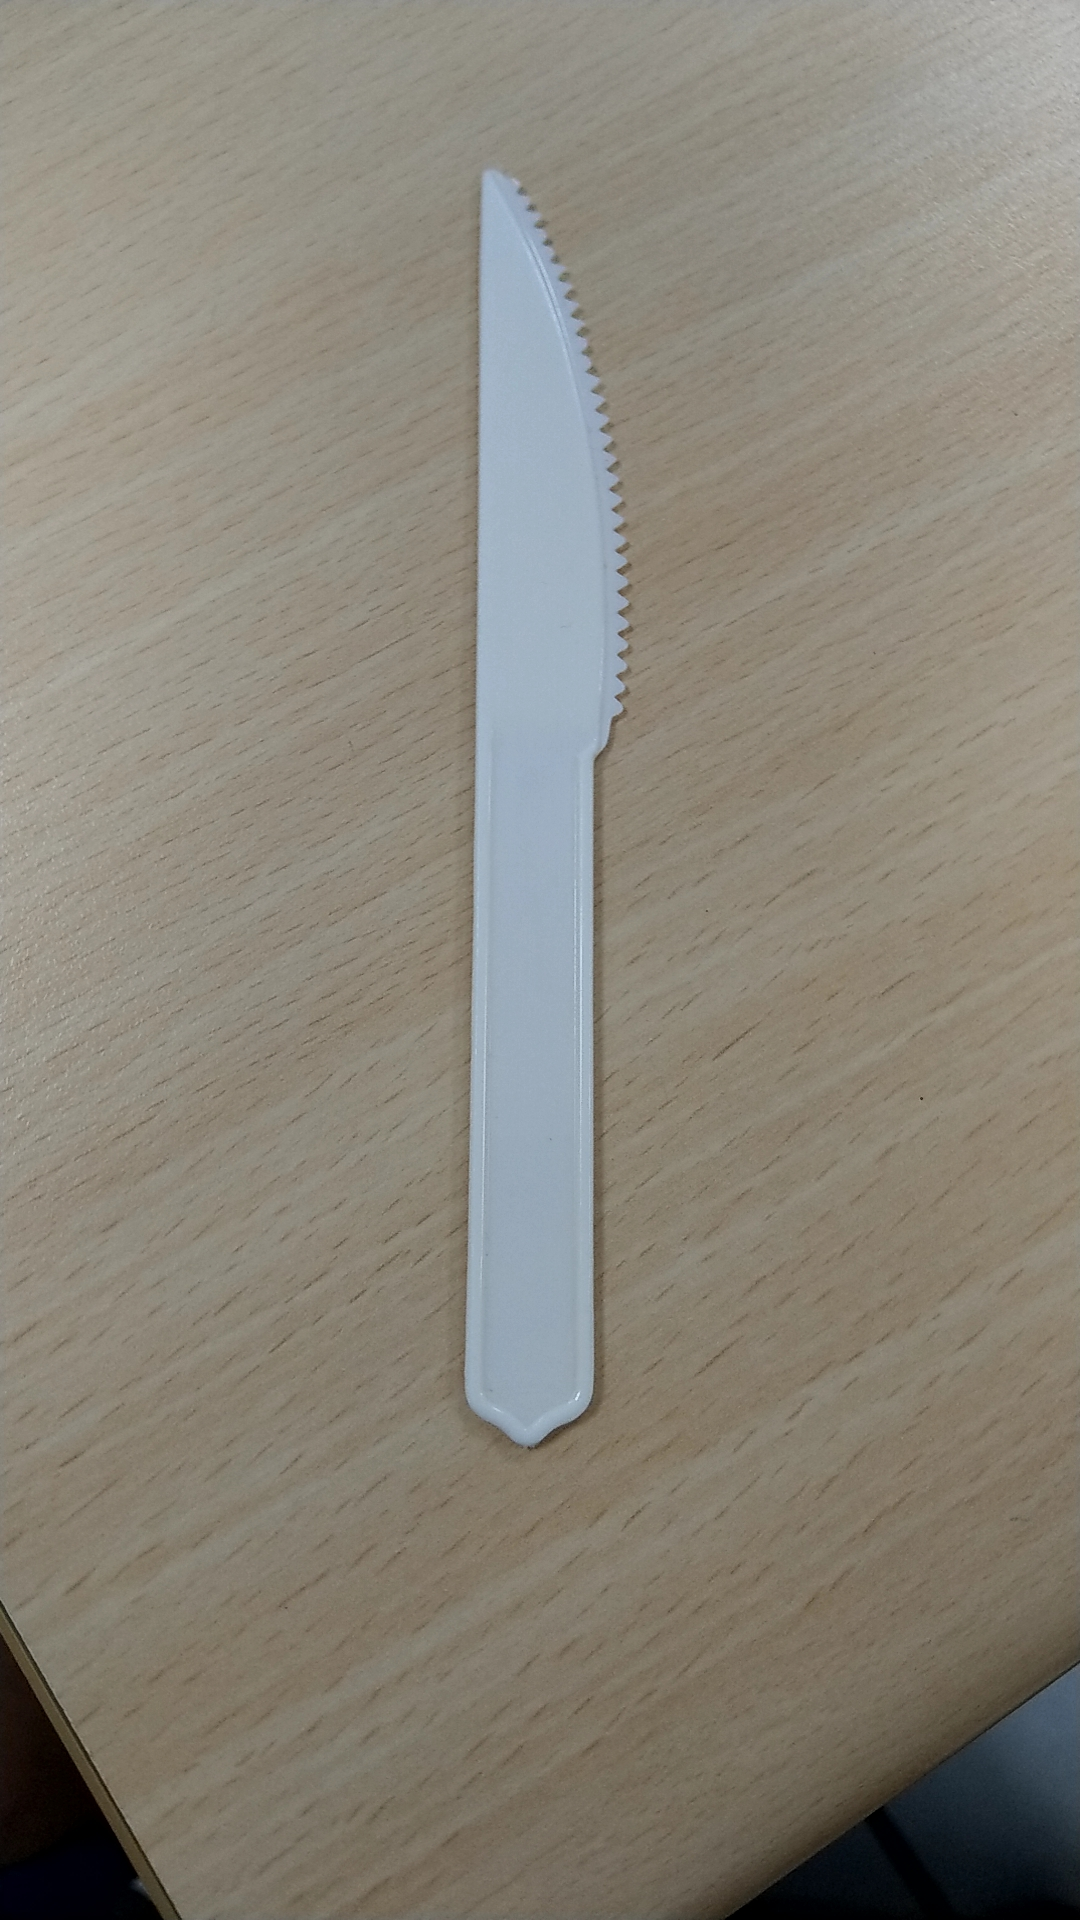knife: (434, 142, 655, 1482)
